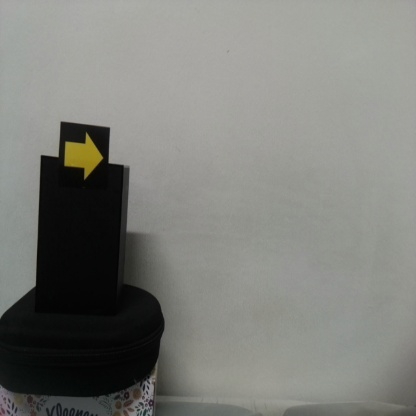id_3: (61, 123, 109, 200)
